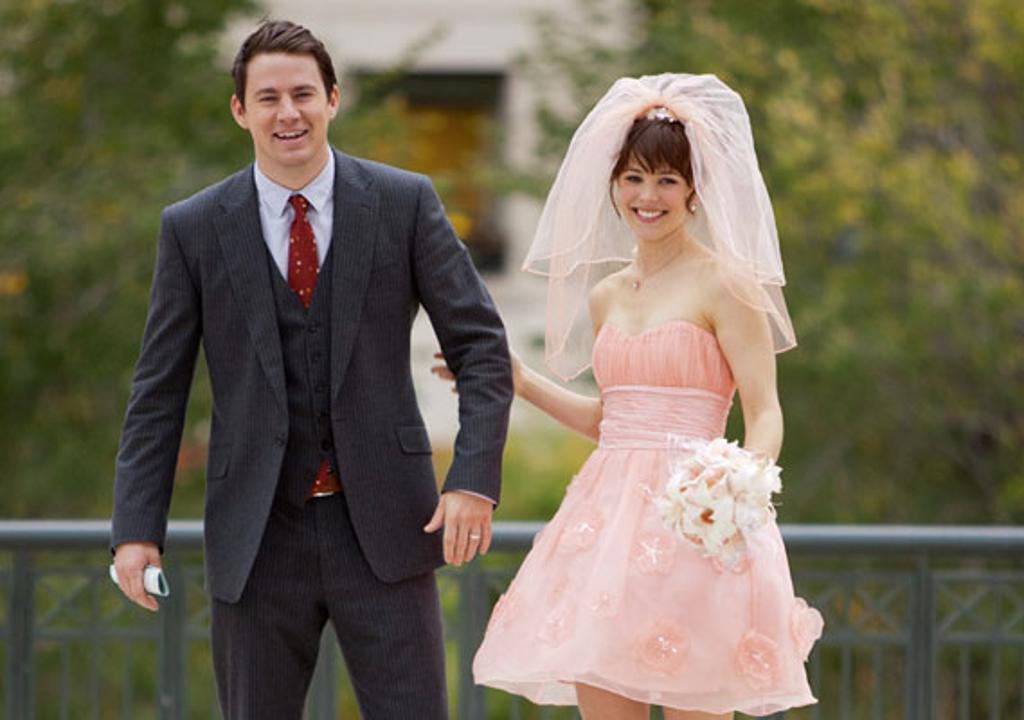face: (242, 50, 326, 164), (618, 118, 690, 238)
